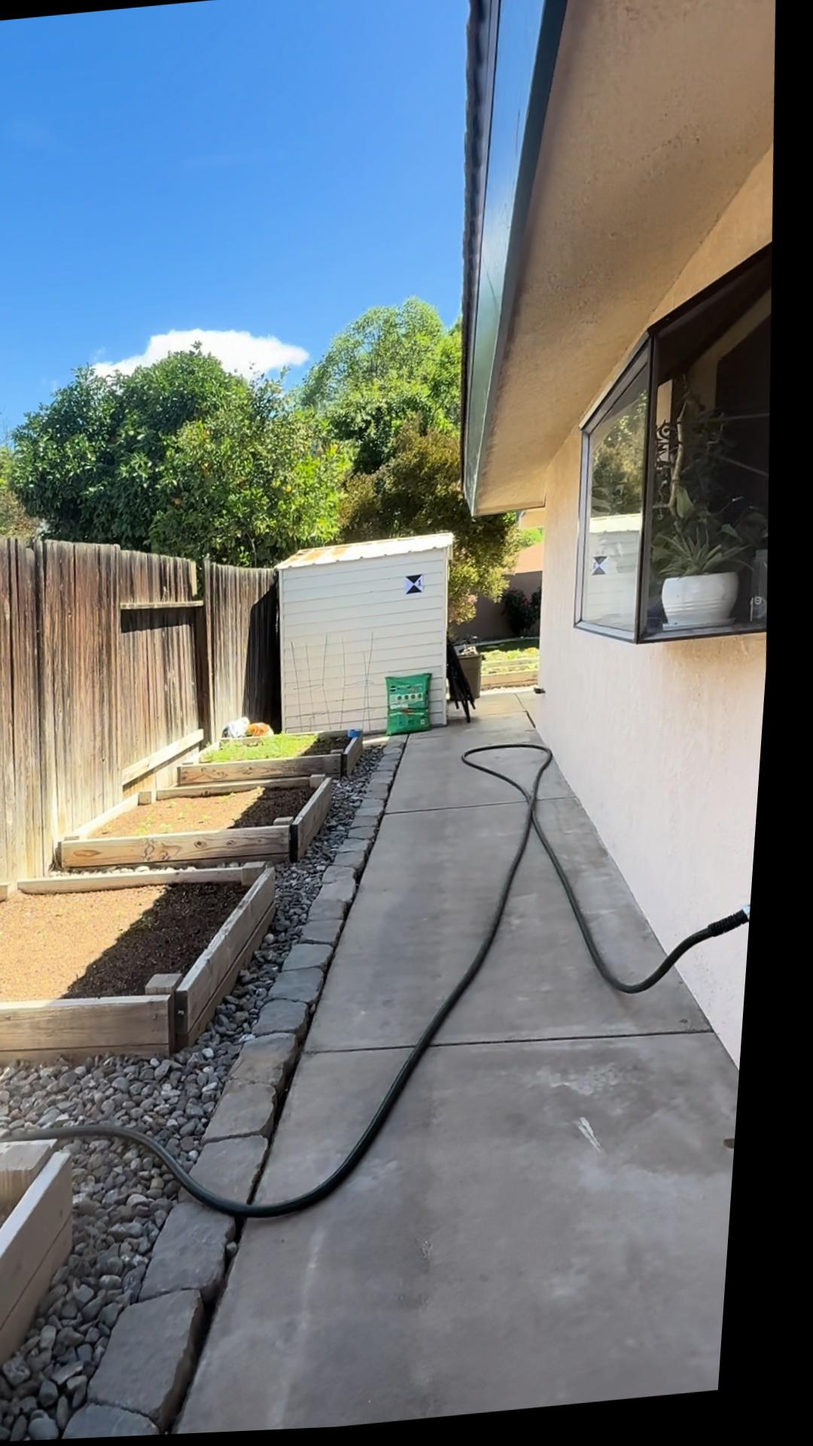target1: (403, 572, 425, 596)
